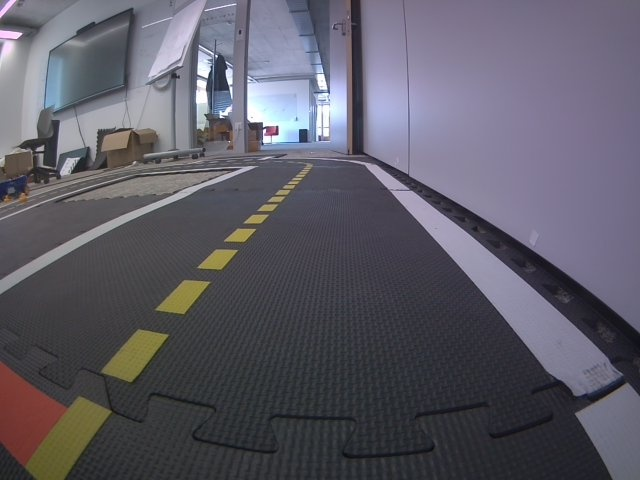Bot: (0, 176, 29, 198)
freeSpot: (197, 156, 273, 163)
